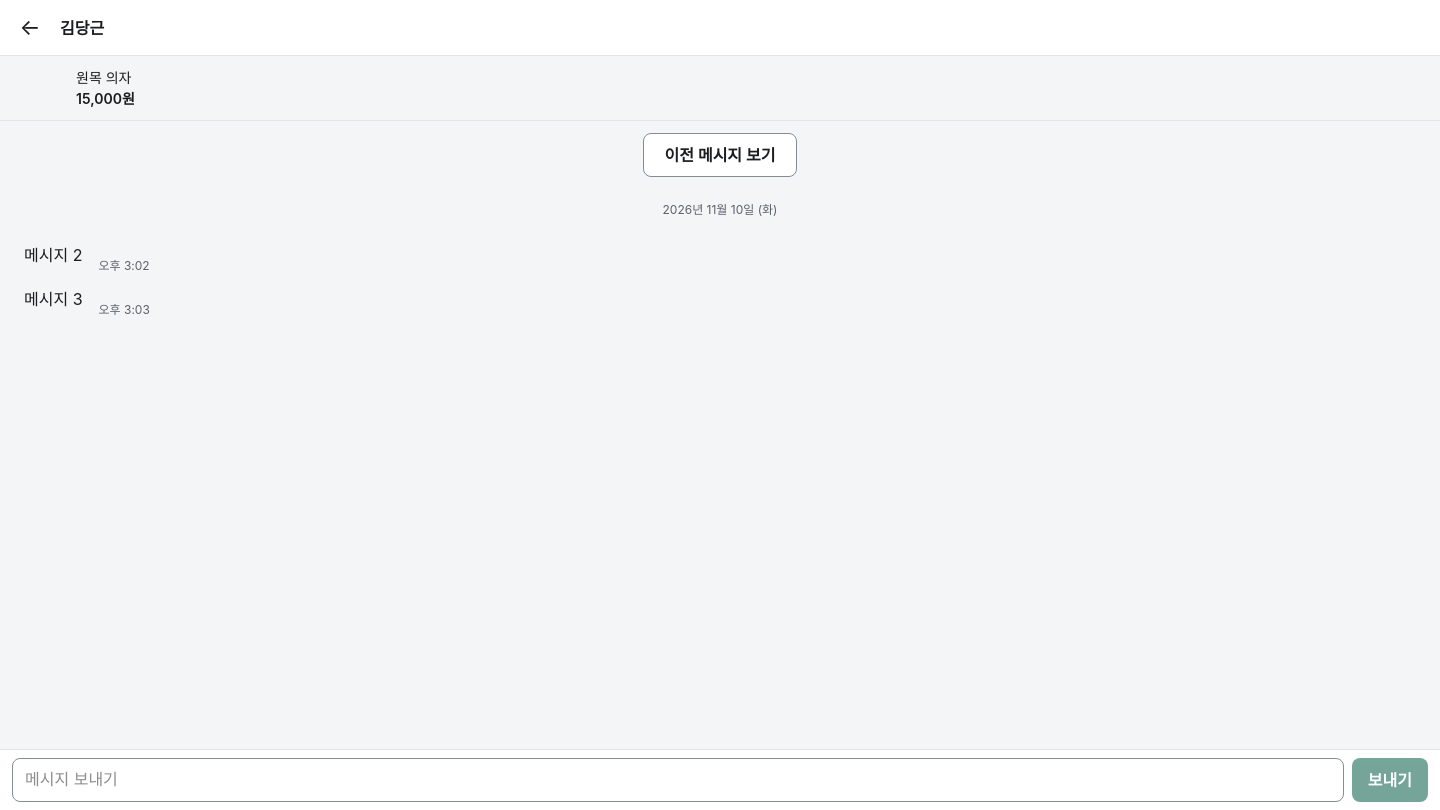
채팅방 › [AC-CH-11] 과거 메시지가 더 있으면 [이전 메시지 보기]로 이어 받는다
Click the button "이전 메시지 보기".
click(720, 155)  # box [643,133,796,177]
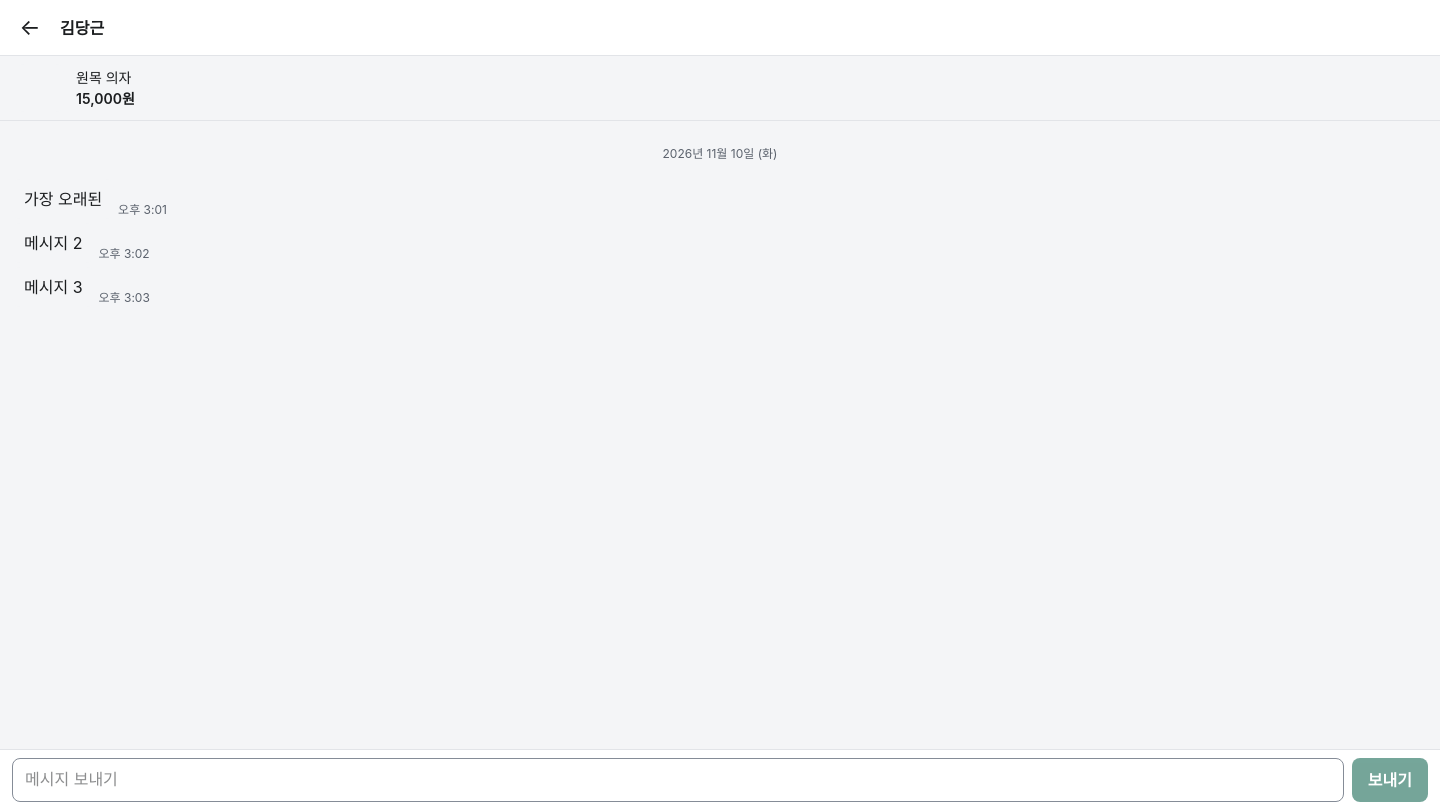
Check: the text "가장 오래된" is shown, box [12,179,114,219]
Check: the button "이전 메시지 보기" is gone
